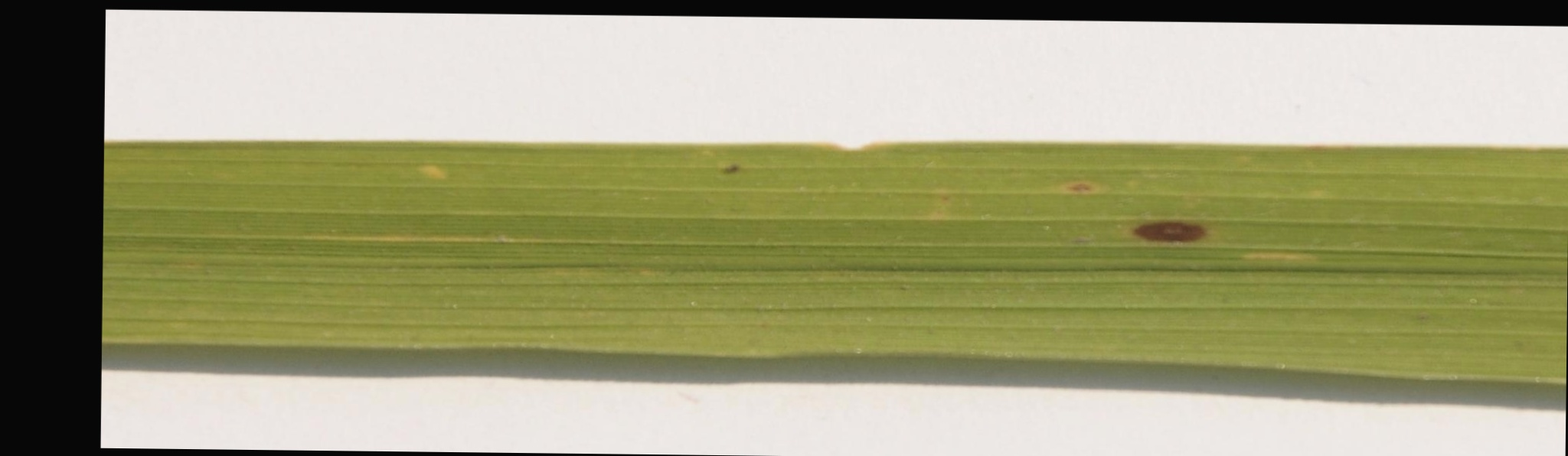Bacterial_Leaf_Blight: (1116, 190, 1238, 256)
